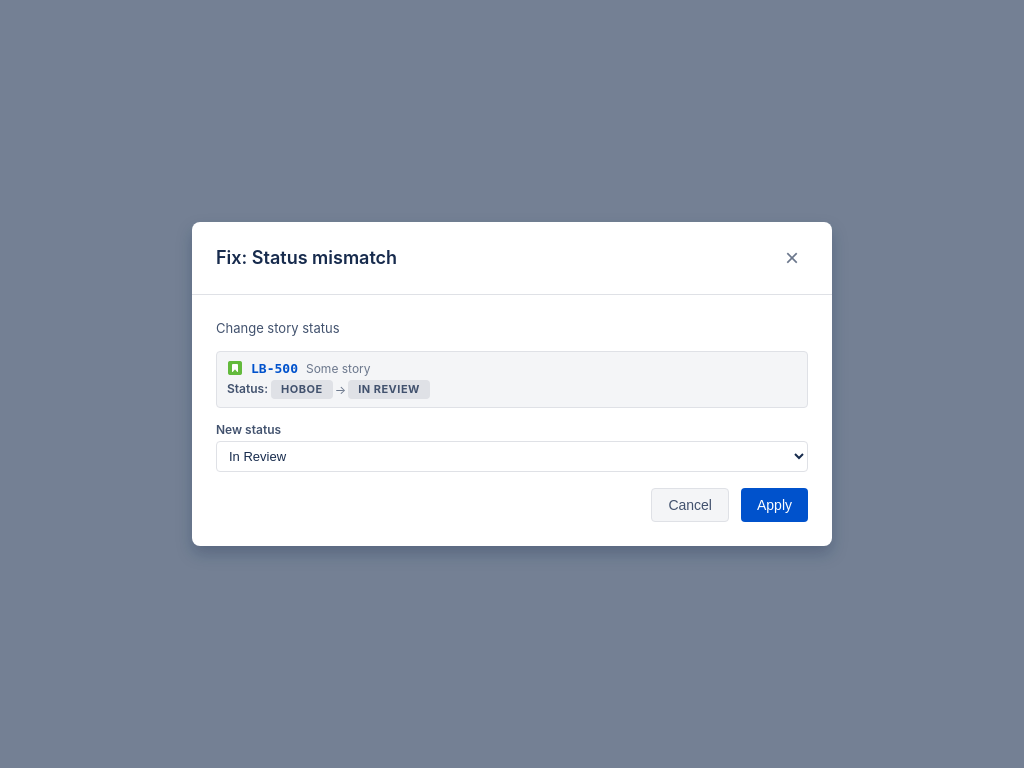
it: FixModal › drives the right-hand StatusBadge from the selected targetStatus input
This screenshot has width=1024, height=768.
expect the text "LB-500" is shown: met, box [251,361,298,376]
expect the number of elements with class "status-badge" is 2: met, box [271,380,333,399]; [348,380,430,399]
// Pick "Done" from the "New status" native select
Select "Done" in the dropdown labelled "New status": point(512, 457) [216,441,808,472]
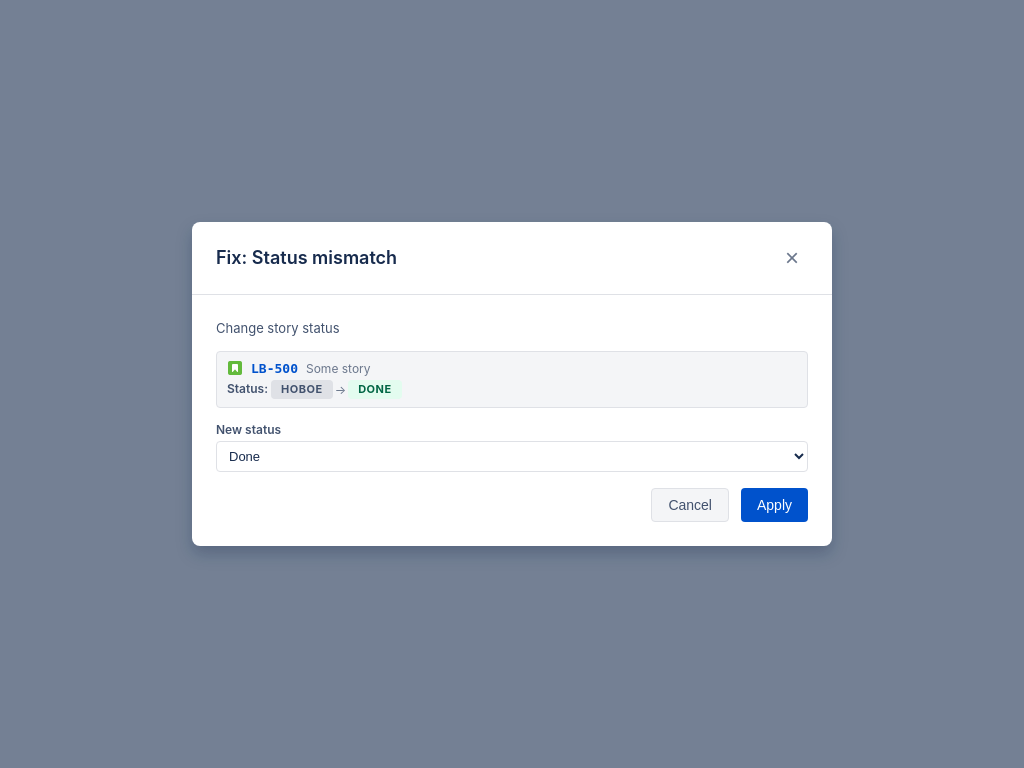
expect the text with class "status-badge" reads "Done": met, box [358,382,392,396]
